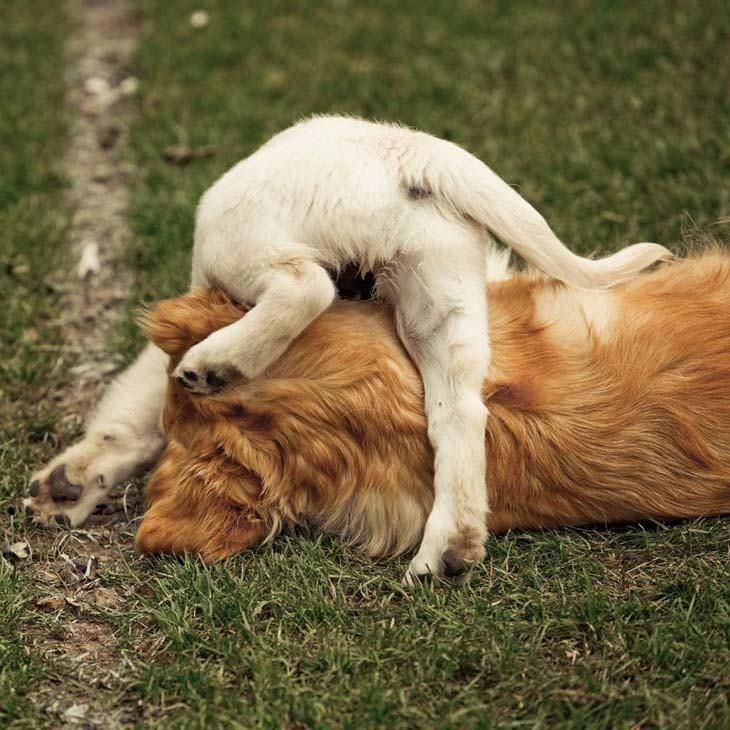adult_dog: (127, 246, 730, 565)
puppy-dog: (28, 108, 675, 591)
